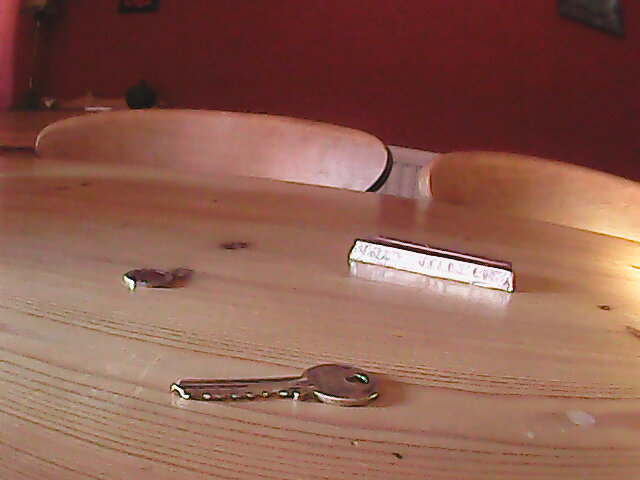Coin: (121, 265, 175, 287)
Foil: (346, 234, 518, 294)
Key: (167, 360, 382, 407)
